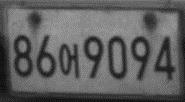0: (106, 35, 128, 80)
4: (152, 34, 176, 81)
6: (35, 33, 57, 78)
8: (12, 34, 33, 78)
9: (82, 35, 104, 80), (130, 36, 151, 80)
어: (59, 42, 80, 80)
